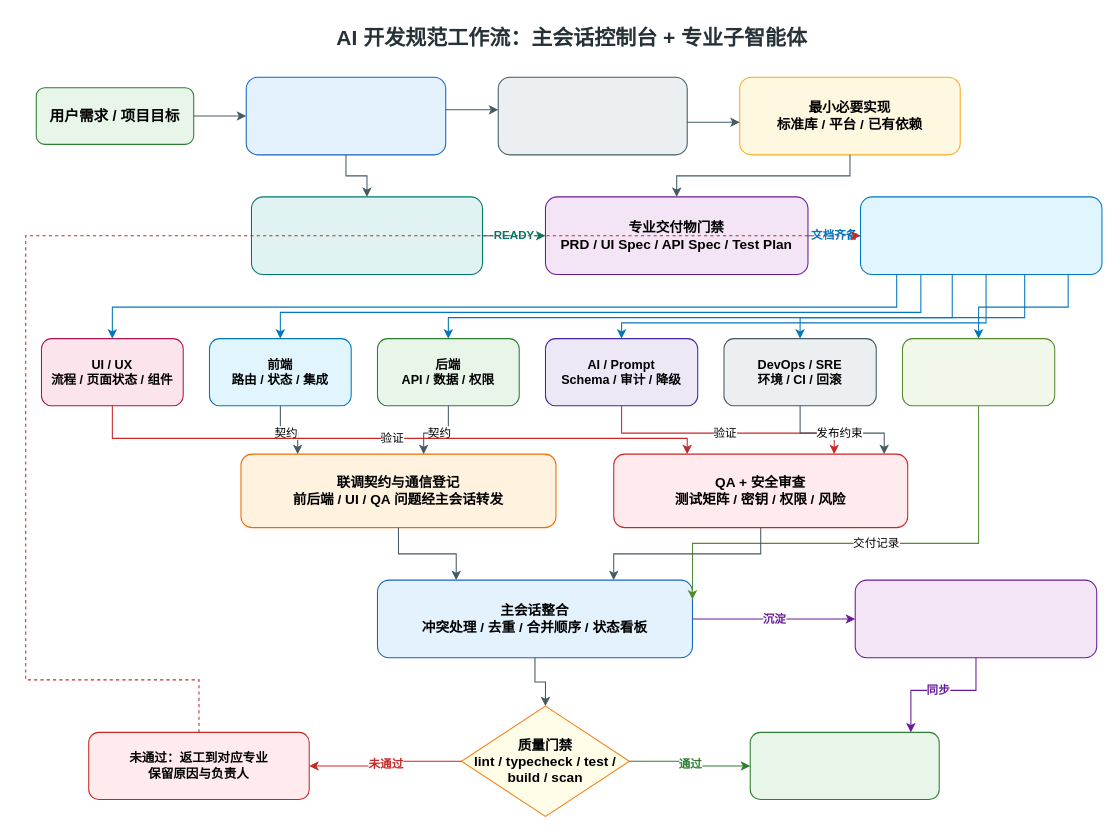
Some shapes in this 1120 by 835 pixel diagram are drawn without their labels. Each missing label, with the centre of its shape:
上下文预算 RTK / 摘要 / 原始证据: the point at 592,115
主会话控制台 目标 / 范围 / 状态 / 决策: the point at 345,115
发布 / 交付 验证 / 回滚 / 交接: the point at 844,765
并行任务分配 单一专业 / 文件边界 / 验收标准: the point at 980,235
文档 README / 变更 / 用户指南: the point at 978,372
立项与颗粒度对齐 字段 / 接口 / 权限 / 状态: the point at 366,235
规范沉淀闭环 本地补丁 / 上游提案 / 双远端同步: the point at 975,618
